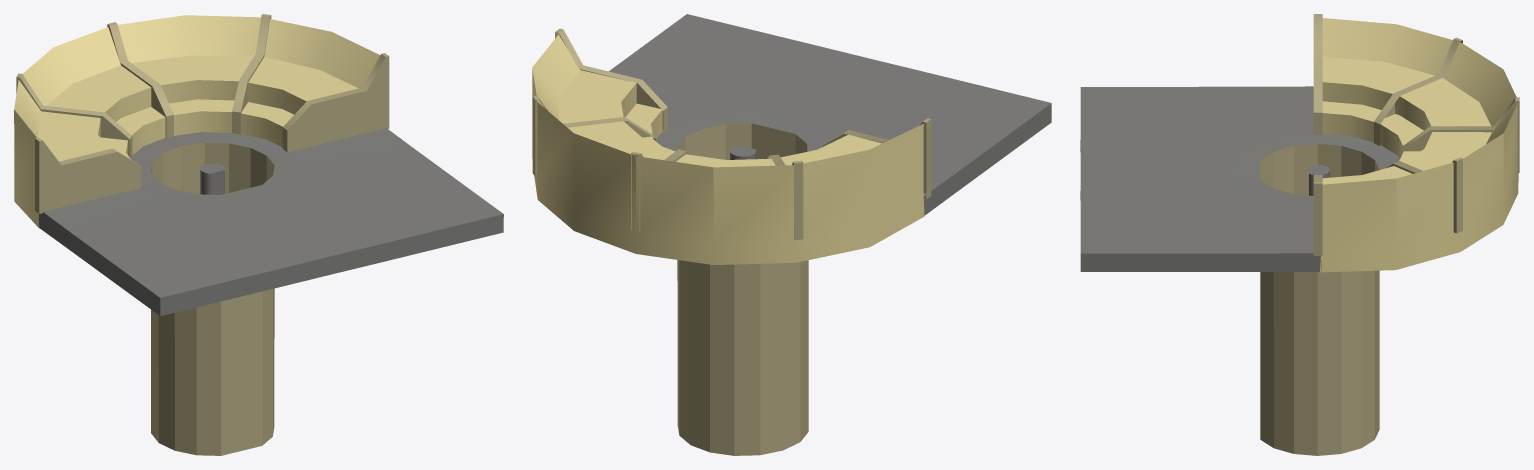
File: Ruins.fbx
3 renders of one model, left to right at view 1: azimuth 30°, elevation 25°; view 2: azimuth 150°, elevation 25°; view 3: azimuth 270°, elevation 25°, orthographic. The views are drawn at different scales.
Visible parts, largest first — view 1: Ruin; view 2: Ruin; view 3: Ruin.
Part boxes in pixels (x1=…): Ruin: x1=14, y1=14, x2=503, y2=455; Ruin: x1=532, y1=14, x2=1051, y2=455; Ruin: x1=1080, y1=14, x2=1519, y2=455.
Bounding box in the file's own units: 32.37 × 29.4 × 35.37.
